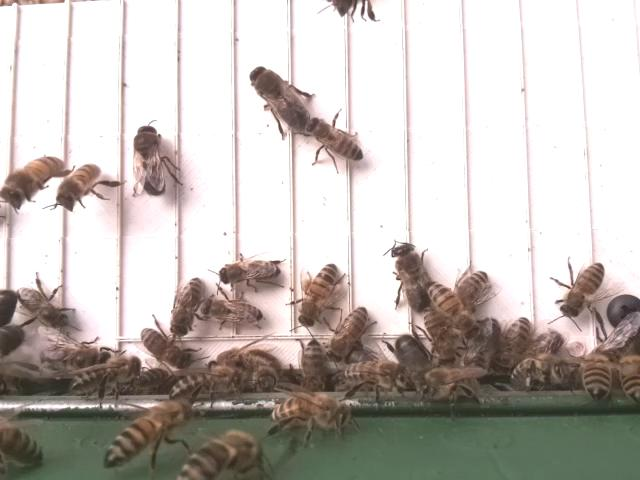Drone: (245, 64, 315, 136), (127, 122, 174, 200), (389, 240, 435, 315)
Worker: (105, 397, 192, 468), (304, 110, 367, 169), (170, 360, 249, 404), (341, 354, 416, 400), (13, 284, 78, 335), (297, 259, 342, 330), (557, 259, 607, 322), (429, 276, 476, 343), (67, 353, 143, 394), (203, 290, 270, 335), (137, 324, 198, 373), (208, 253, 291, 289), (510, 354, 575, 398), (4, 155, 64, 201), (204, 341, 279, 377), (165, 273, 206, 337), (328, 302, 371, 363), (270, 396, 351, 425), (496, 313, 534, 373), (59, 164, 104, 210), (583, 339, 614, 401), (452, 268, 491, 311), (299, 336, 326, 391)
